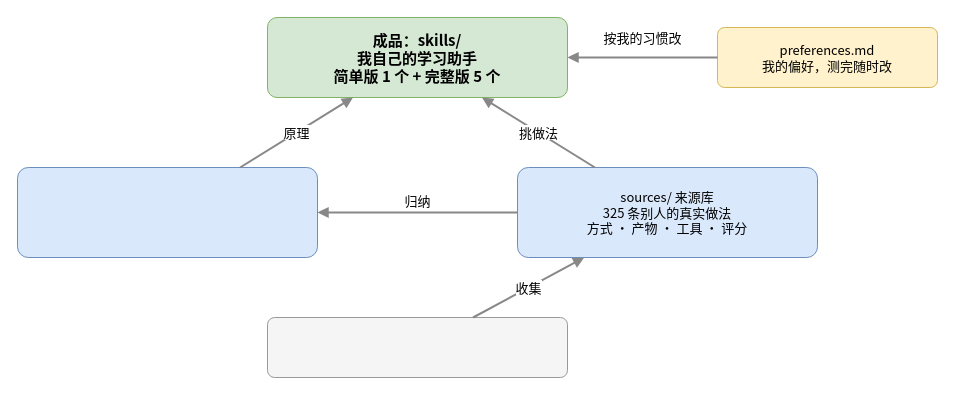
Some shapes in this 955 by 395 pixel diagram are drawn without their labels. The shapes that lost their labels are listed below. From the top down, each one's box as (x1, y1, x2, y2) in pixels, then its label:
(16, 166, 318, 258): chapters/ 六章调研 为什么这么学：记忆、检索、 间隔、人机分工、工具栈
(266, 316, 568, 378): 网上几百个人的经验 X · YouTube · B 站 · GitHub · 博客 · 论文
